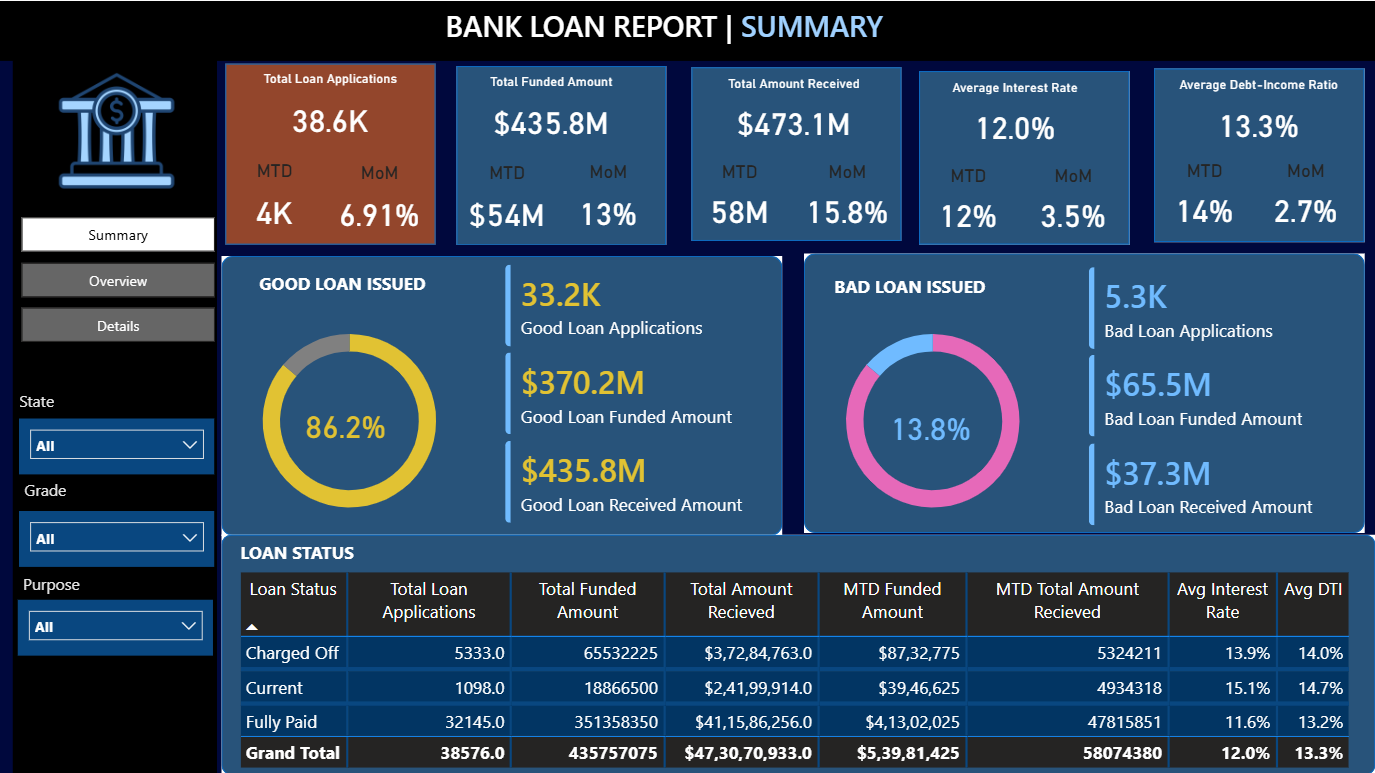

This screenshot's page, from the dashboard's own definition file:
{"tool":"powerbi","page":{"name":"Summary","canvas":[1280,720],"ordinal":0},"visuals":[{"type":"shape","box":[0,0,1280,55.7],"z":0},{"type":"slicer","fields":{"Values":["bank_loan_table.address_state"]},"box":[19.4,388.4,181.7,51.7],"z":0,"group":"g7"},{"type":"slicer","fields":{"Values":["bank_loan_table.grade"]},"box":[18.3,475,181.7,51.7],"z":0,"group":"g6"},{"type":"slicer","fields":{"Values":["bank_loan_table.purpose"]},"box":[17.8,557.3,181.7,51.7],"z":0,"group":"g8"},{"type":"shape","box":[13.3,55,190,665],"z":1000},{"type":"textbox","box":[14.4,356.7,70,31.7],"z":1000,"group":"g7"},{"type":"textbox","box":[18.3,440,70,35],"z":1000,"group":"g6"},{"type":"textbox","box":[17.8,526.7,70,35.6],"z":1000,"group":"g8"},{"type":"shape","box":[206.7,236.7,521.7,260],"z":2000},{"type":"textbox","box":[410,0,518.8,55],"z":3000},{"type":"shape","box":[210,58.3,195.7,168.6],"z":3000,"group":"g1"},{"type":"shape","box":[426.5,60,195,166.8],"z":3000,"group":"g2"},{"type":"shape","box":[644.8,61.7,195.3,161.7],"z":3000,"group":"g3"},{"type":"shape","box":[1075,62.3,195.7,161.4],"z":3000,"group":"g5"},{"type":"shape","box":[855.5,64.8,195.7,161.4],"z":3000,"group":"g4"},{"type":"card","title":"Total Loan Applications","fields":{"Values":["bank_loan_table.Total Loan Applications"]},"box":[219.3,65.6,177.1,77],"z":4000,"group":"g1"},{"type":"card","title":"Total Funded Amount","fields":{"Values":["Sum(bank_loan_table.loan_amount)"]},"box":[426,67.3,176.4,76.2],"z":4000,"group":"g2"},{"type":"card","title":"Total  Amount Received","fields":{"Values":["bank_loan_table.Total Amount Recieved"]},"box":[651.9,70,176.7,73.3],"z":4000,"group":"g3"},{"type":"card","title":"Average Debt-Income Ratio ","fields":{"Values":["bank_loan_table.Avg DTI"]},"box":[1084.3,70.7,176.4,73.6],"z":4000,"group":"g5"},{"type":"card","title":"Average Interest Rate","fields":{"Values":["bank_loan_table.Avg Interest Rate"]},"box":[856.2,73.2,176.4,73.6],"z":4000,"group":"g4"},{"type":"donutChart","fields":{"Category":["bank_loan_table.Good VS Bad Loan"],"Y":["bank_loan_table.Total Loan Applications"]},"box":[206.7,285,238.3,211.7],"z":4000},{"type":"group","id":"g1","title":"Group 1","box":[210,58.3,195.7,168.6],"z":5000},{"type":"card","title":"MTD","fields":{"Values":["bank_loan_table.MTD Avg DTI"]},"box":[1076.7,147.3,91.7,73.3],"z":5000,"group":"g5"},{"type":"card","title":"MTD","fields":{"Values":["bank_loan_table.MTD loan Applications"]},"box":[210,148.3,91.7,76.7],"z":5000,"group":"g1"},{"type":"card","title":"MTD","fields":{"Values":["bank_loan_table.MTD Total Amount Recieved"]},"box":[643.6,148.4,91.7,73.3],"z":5000,"group":"g3"},{"type":"card","title":"MTD","fields":{"Values":["bank_loan_table.MTD Funded Amount"]},"box":[427.7,150,91.7,76.7],"z":5000,"group":"g2"},{"type":"card","title":"MTD","fields":{"Values":["bank_loan_table.MTD Avg Rate"]},"box":[856,151.5,91.7,73.3],"z":5000,"group":"g4"},{"type":"group","id":"g2","title":"Group 1","box":[426,60,195.5,166.8],"z":6000},{"type":"card","title":"MoM","fields":{"Values":["bank_loan_table.MoM Avg DTI"]},"box":[1165,147.3,103.3,73.3],"z":6000,"group":"g5"},{"type":"card","title":"MoM","fields":{"Values":["bank_loan_table.MoM Funded Amount"]},"box":[516.1,148.3,103.3,76.7],"z":6000,"group":"g2"},{"type":"card","title":"MoM","fields":{"Values":["bank_loan_table.MoM Total Amount Recieved"]},"box":[738.6,148.4,101.7,73.3],"z":6000,"group":"g3"},{"type":"card","title":"MoM","fields":{"Values":["bank_loan_table.MoM Loan Application"]},"box":[301.7,150,103.3,76.7],"z":6000,"group":"g1"},{"type":"card","title":"MoM","fields":{"Values":["bank_loan_table.MoM Avg Interest Rate"]},"box":[947.2,151.5,103.3,73.3],"z":6000,"group":"g4"},{"type":"shape","box":[748.3,235,521.7,260],"z":7000},{"type":"donutChart","fields":{"Category":["bank_loan_table.Good VS Bad Loan"],"Y":["bank_loan_table.Total Loan Applications"]},"box":[748.3,285,240,211.7],"z":8000},{"type":"card","title":"Total Loan Applications","fields":{"Values":["bank_loan_table.Good Loan Percentage"]},"box":[275,375,96.7,40],"z":9000},{"type":"group","id":"g3","title":"Group 1","box":[643.6,61.7,196.7,161.7],"z":10000},{"type":"group","id":"g4","title":"Group 1","box":[855.5,64.8,195.7,161.4],"z":11000},{"type":"group","id":"g5","title":"Group 1","box":[1075,62.3,195.7,161.4],"z":12000},{"type":"textbox","box":[236.7,246.7,165,43.3],"z":13000},{"type":"card","title":"Total Loan Applications","fields":{"Values":["bank_loan_table.Bad Loan Percentage"]},"box":[818.3,376.7,96.7,40],"z":14000},{"type":"shape","box":[206.7,496.7,1073.3,223.3],"z":15000},{"type":"cardVisual","fields":{"Data":["bank_loan_table.Good Loan Applications","bank_loan_table.Good Loan Funded Amount","bank_loan_table.Good Loan Received Amount"]},"box":[460,235,268.3,260],"z":16000},{"type":"cardVisual","fields":{"Data":["bank_loan_table.Bad Loan Applications","bank_loan_table.Bad Loan Funded Amount","bank_loan_table.Bad Loan Received Amount"]},"box":[1003.3,236.7,266.7,260],"z":17000},{"type":"textbox","box":[771.7,248.3,186.7,41.7],"z":18000},{"type":"tableEx","fields":{"Values":["bank_loan_table.loan_status","bank_loan_table.Total Loan Applications","bank_loan_table.Total Funded Amount","bank_loan_table.Total Amount Recieved","bank_loan_table.MTD Funded Amount","bank_loan_table.MTD Total Amount Recieved","bank_loan_table.Avg Interest Rate","bank_loan_table.Avg DTI"]},"box":[218.3,526.7,1051.7,193.3],"z":19000},{"type":"textbox","box":[220,496.7,386.7,35],"z":20000},{"type":"group","id":"g6","title":"Group 2","box":[18.3,440,181.7,86.7],"z":21000},{"type":"group","id":"g7","title":"Group 3","box":[14.4,356.7,186.7,83.3],"z":22000},{"type":"group","id":"g8","title":"Group 2","box":[17.8,526.7,181.7,82.2],"z":23000},{"type":"image","box":[31.1,65.6,156.7,111.1],"z":24000},{"type":"pageNavigator","box":[21.1,201.1,180,118.9],"z":25000}]}

Visuals, with their boxes in screenshot pixels (x1, y1, x2, y2), scaled from the page's 1280x720 canvas onto the 1375x773 screenshot:
shape: 0/0/1374/60
slicer - bank_loan_table.address_state: 21/417/216/472
slicer - bank_loan_table.grade: 20/510/215/565
slicer - bank_loan_table.purpose: 19/598/214/654
shape: 14/59/218/772
textbox: 15/383/91/417
textbox: 20/472/95/510
textbox: 19/565/94/604
shape: 222/254/782/533
textbox: 440/0/998/59
shape: 226/63/436/244
shape: 458/64/668/243
shape: 693/66/902/240
shape: 1155/67/1365/240
shape: 919/70/1129/243
"Total Loan Applications" card: 236/70/426/153
"Total Funded Amount" card: 458/72/647/154
"Total  Amount Received" card: 700/75/890/154
"Average Debt-Income Ratio " card: 1165/76/1354/155
"Average Interest Rate" card: 920/79/1109/158
donutChart - bank_loan_table.Good VS Bad Loan x bank_loan_table.Total Loan Applications: 222/306/478/533
"Group 1" group: 226/63/436/244
"MTD" card: 1157/158/1255/237
"MTD" card: 226/159/324/242
"MTD" card: 691/159/790/238
"MTD" card: 459/161/558/243
"MTD" card: 920/163/1018/241
"Group 1" group: 458/64/668/243
"MoM" card: 1251/158/1362/237
"MoM" card: 554/159/665/242
"MoM" card: 793/159/903/238
"MoM" card: 324/161/435/243
"MoM" card: 1018/163/1128/241
shape: 804/252/1364/531
donutChart - bank_loan_table.Good VS Bad Loan x bank_loan_table.Total Loan Applications: 804/306/1062/533
"Total Loan Applications" card: 295/403/399/446
"Group 1" group: 691/66/903/240
"Group 1" group: 919/70/1129/243
"Group 1" group: 1155/67/1365/240
textbox: 254/265/432/311
"Total Loan Applications" card: 879/404/983/447
shape: 222/533/1374/772
cardVisual - bank_loan_table.Good Loan Applications x bank_loan_table.Good Loan Funded Amount: 494/252/782/531
cardVisual - bank_loan_table.Bad Loan Applications x bank_loan_table.Bad Loan Funded Amount: 1078/254/1364/533
textbox: 829/267/1030/311
tableEx - bank_loan_table.loan_status x bank_loan_table.Total Loan Applications: 235/565/1364/772
textbox: 236/533/652/571
"Group 2" group: 20/472/215/565
"Group 3" group: 15/383/216/472
"Group 2" group: 19/565/214/654
image: 33/70/202/190
pageNavigator: 23/216/216/344
